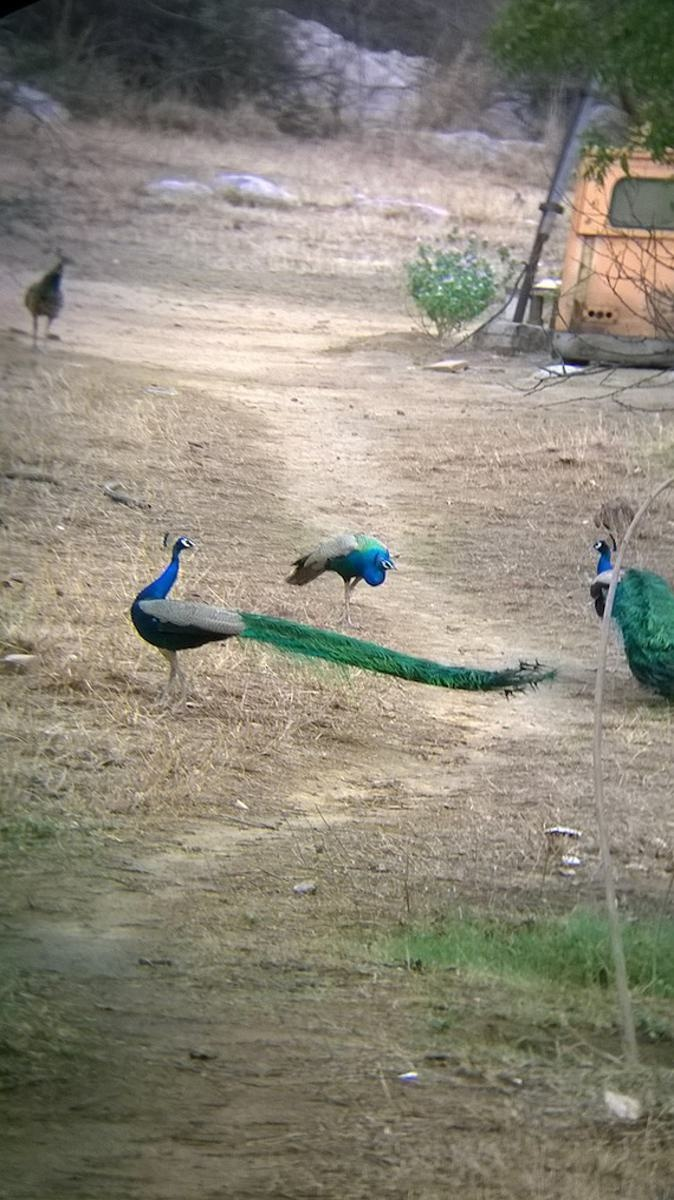peacock: (130, 522, 525, 738), (567, 508, 674, 693), (279, 521, 414, 617)
